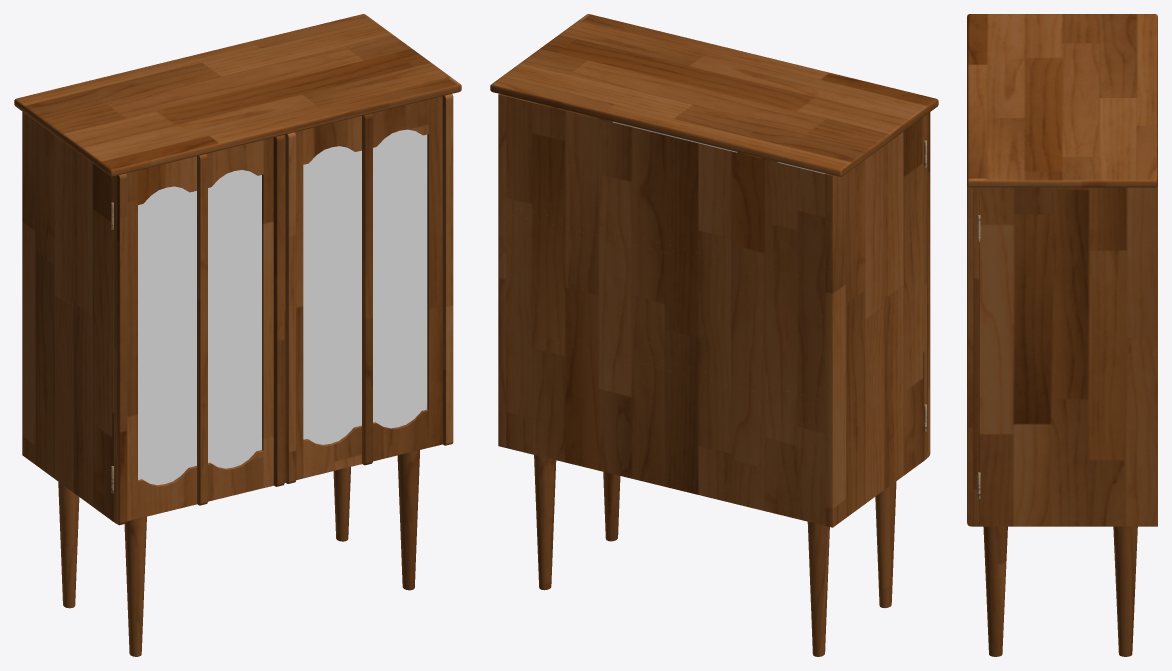
File: MEGA_PACK_CABINET__cabinet-143628_frame_1_naturalwood.glb
3 renders of one model, left to right at view 1: azimuth 30°, elevation 25°; view 2: azimuth 150°, elevation 25°; view 3: azimuth 270°, elevation 25°, orthographic. The views are drawn at different scales.
Parts seen in each view (by area): view 1: cabinet-143628_frame_1_naturalwood; view 2: cabinet-143628_frame_1_naturalwood; view 3: cabinet-143628_frame_1_naturalwood.
Part boxes in pixels (x1,y1,x2,y2): cabinet-143628_frame_1_naturalwood: (14, 14, 461, 656); cabinet-143628_frame_1_naturalwood: (490, 14, 938, 656); cabinet-143628_frame_1_naturalwood: (967, 14, 1157, 656).
Bounding box in the file's own units: 0.83 × 1.14 × 0.4.
1 material, 1 textured.
